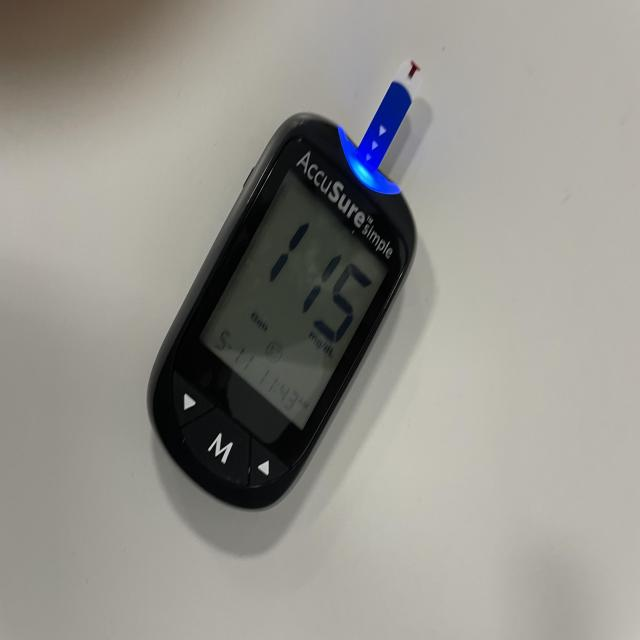gluco: (146, 81, 419, 559)
